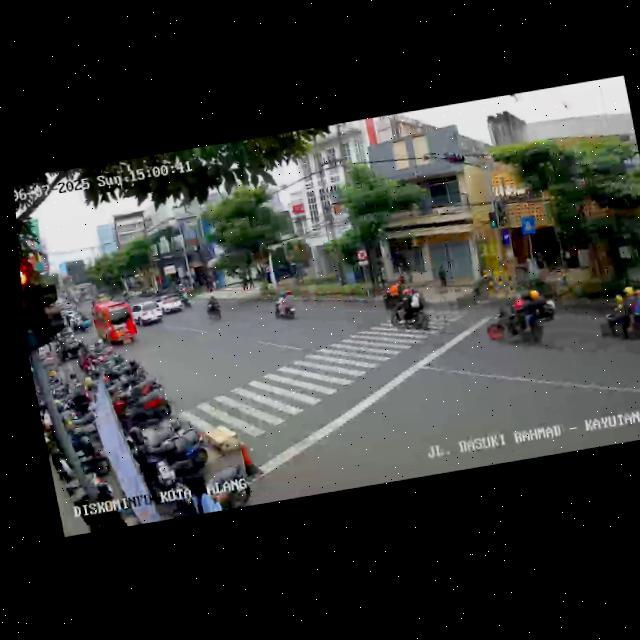car: (89, 297, 140, 351), (131, 298, 166, 329), (158, 291, 185, 315)
motorcycle: (478, 284, 565, 355), (592, 278, 640, 350), (386, 280, 432, 334), (271, 288, 301, 324), (203, 291, 225, 323)
